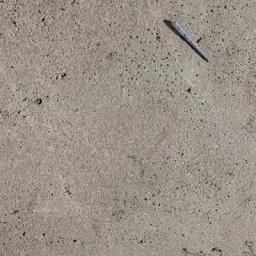FOD: (161, 17, 212, 65)
